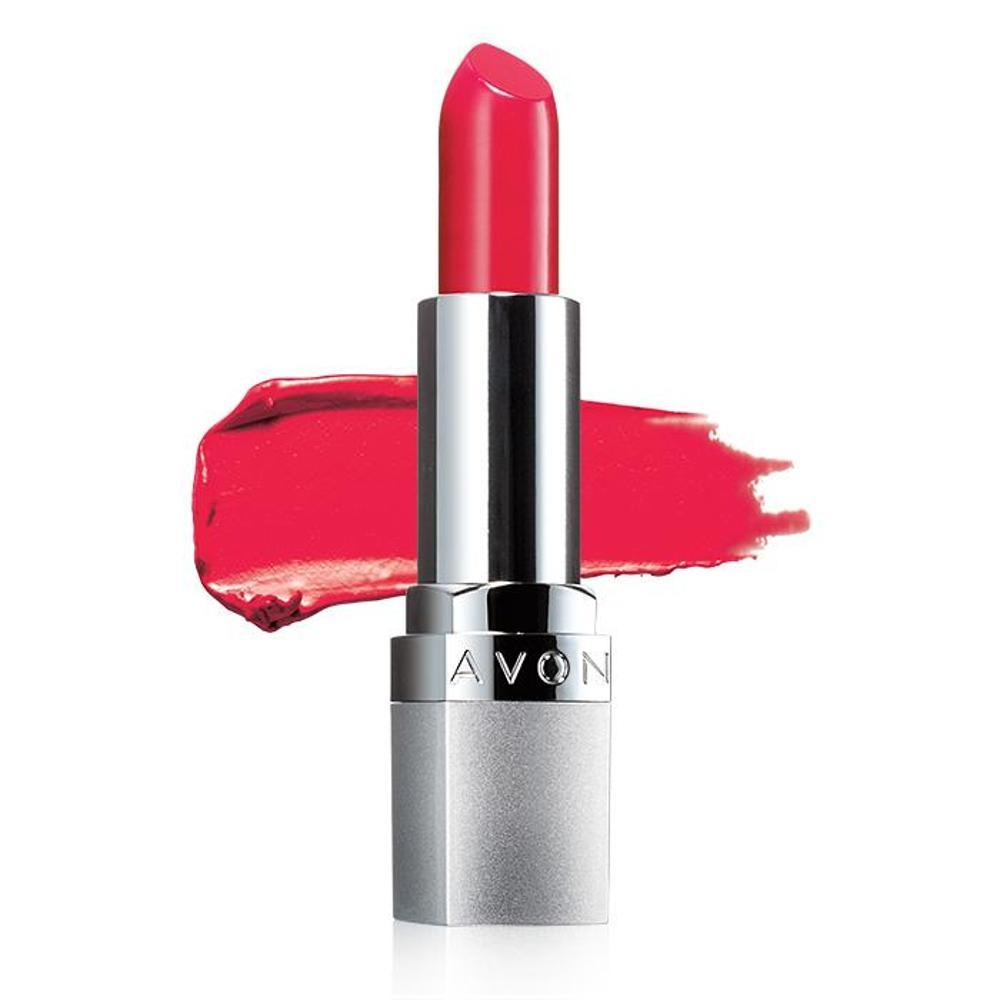lipstick: (358, 28, 665, 929)
